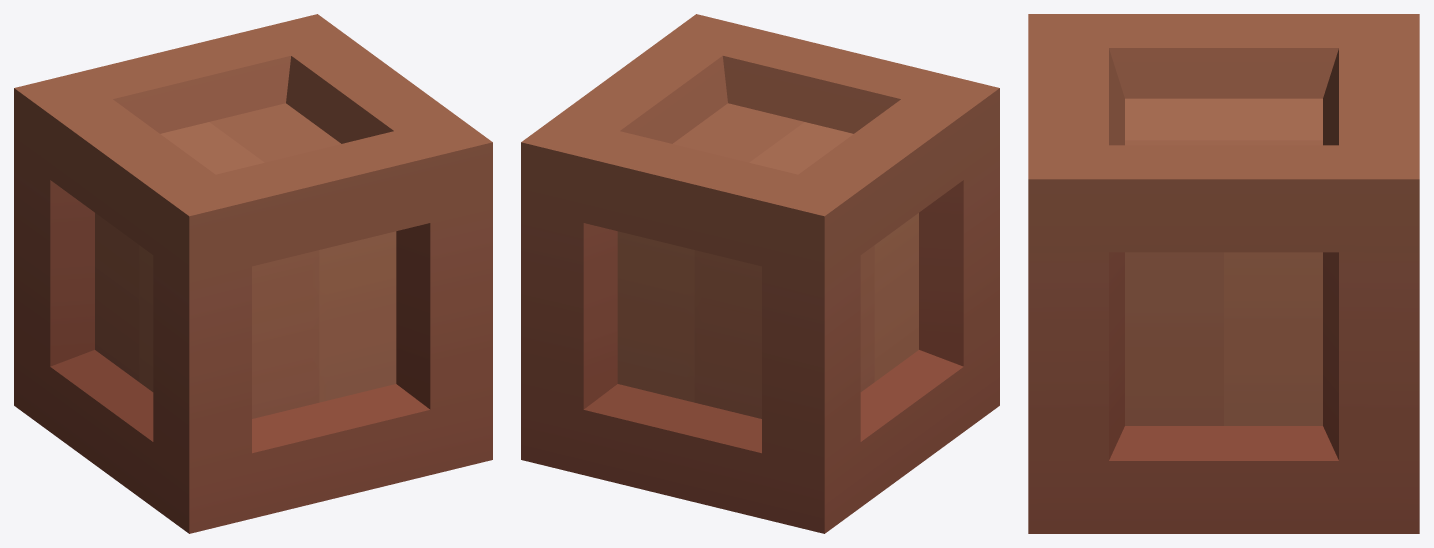
Rendered from kay-caixote-pequeno-hex.gltf.
3 views of the same model, side by side, from view 1: azimuth 30°, elevation 25°; view 2: azimuth 150°, elevation 25°; view 3: azimuth 270°, elevation 25° (orthographic). The views are drawn at different scales.
Parts seen in each view (by area): view 1: crate_A_small; view 2: crate_A_small; view 3: crate_A_small.
Part boxes in pixels (<box>): crate_A_small: <box>14,14,492,533</box>; crate_A_small: <box>521,14,999,533</box>; crate_A_small: <box>1028,14,1419,533</box>.
Bounding box in the file's own units: 0.7 × 0.7 × 0.7.
1 material, 1 textured.
